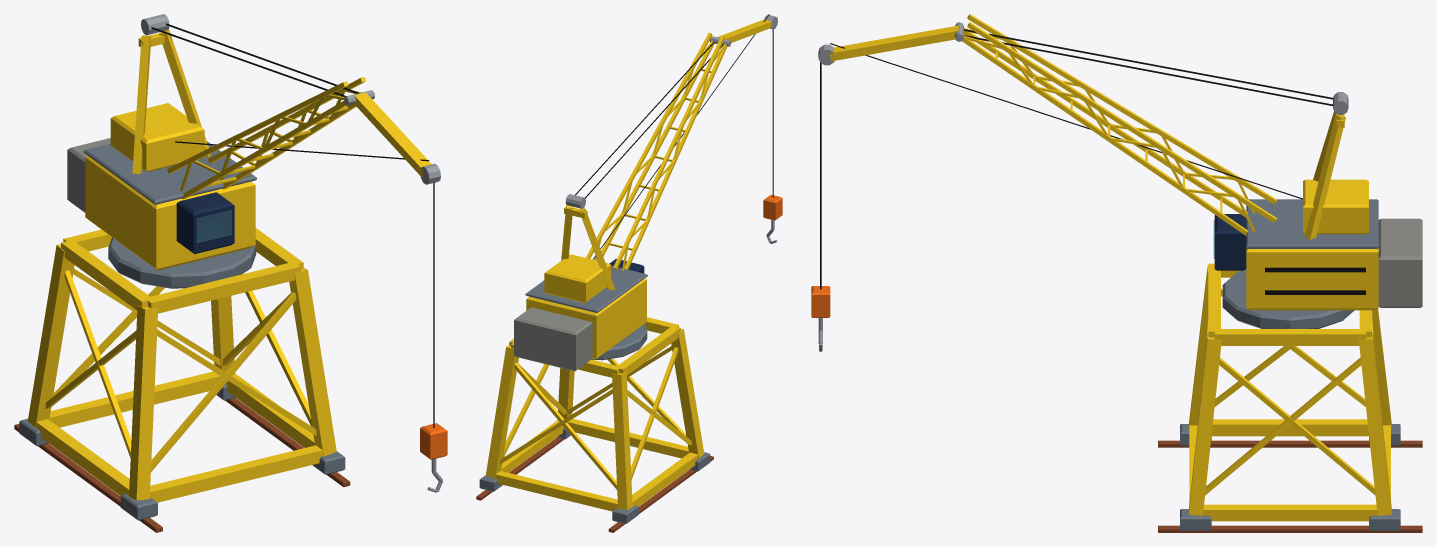
File: HARBOR_07.obj
The picture shows the model from 3 angles, left to right: view 1: azimuth 30°, elevation 25°; view 2: azimuth 150°, elevation 25°; view 3: azimuth 270°, elevation 25°; orthographic projection. The views are drawn at different scales.
Parts seen in each view (by area): view 1: HARBOR_07__legs, HARBOR_07__house, HARBOR_07__sill, HARBOR_07__leg_brace, HARBOR_07__portal_top, HARBOR_07__winch_house, HARBOR_07__boom_chord, HARBOR_07__slew_ring, HARBOR_07__cab, HARBOR_07__a_frame, HARBOR_07__rail, HARBOR_07__ropes (+6 smaller); view 2: HARBOR_07__legs, HARBOR_07__sill, HARBOR_07__house, HARBOR_07__boom_chord, HARBOR_07__leg_brace, HARBOR_07__counterweight, HARBOR_07__winch_house, HARBOR_07__portal_top, HARBOR_07__ropes, HARBOR_07__boom_web, HARBOR_07__a_frame, HARBOR_07__rail (+4 smaller); view 3: HARBOR_07__house, HARBOR_07__boom_chord, HARBOR_07__legs, HARBOR_07__sill, HARBOR_07__leg_brace, HARBOR_07__counterweight, HARBOR_07__portal_top, HARBOR_07__rail, HARBOR_07__winch_house, HARBOR_07__ropes, HARBOR_07__slew_ring, HARBOR_07__boom_web (+5 smaller).
Boxes of the visible parts, x1,y1,x2,y2 form: HARBOR_07__legs: (27,244,336,500); HARBOR_07__house: (83,141,256,270); HARBOR_07__sill: (36,371,329,502); HARBOR_07__leg_brace: (45,268,316,471); HARBOR_07__portal_top: (61,228,303,313); HARBOR_07__winch_house: (110,103,204,171); HARBOR_07__boom_chord: (167,77,365,199); HARBOR_07__slew_ring: (108,237,256,288); HARBOR_07__cab: (176,192,234,254); HARBOR_07__a_frame: (132,29,210,173); HARBOR_07__rail: (14,398,350,532); HARBOR_07__ropes: (151,23,434,427); HARBOR_07__legs: (485,328,704,509); HARBOR_07__sill: (495,418,698,511); HARBOR_07__house: (525,265,647,359); HARBOR_07__boom_chord: (585,32,727,269); HARBOR_07__leg_brace: (500,346,691,489); HARBOR_07__counterweight: (514,307,592,371); HARBOR_07__winch_house: (544,254,610,302); HARBOR_07__portal_top: (509,317,680,377); HARBOR_07__ropes: (575,14,773,259); HARBOR_07__boom_web: (594,41,725,271); HARBOR_07__a_frame: (561,205,615,290); HARBOR_07__rail: (476,437,713,532); HARBOR_07__house: (1246,199,1378,310); HARBOR_07__boom_chord: (962,14,1276,235); HARBOR_07__legs: (1188,265,1391,515); HARBOR_07__sill: (1189,419,1390,521); HARBOR_07__leg_brace: (1198,288,1382,495); HARBOR_07__counterweight: (1378,218,1422,307); HARBOR_07__portal_top: (1208,263,1372,345); HARBOR_07__rail: (1158,440,1422,532); HARBOR_07__winch_house: (1303,179,1368,234); HARBOR_07__ropes: (820,29,1333,289); HARBOR_07__slew_ring: (1222,269,1354,328); HARBOR_07__boom_web: (964,28,1254,231).
Size of the model in its own units: 7.1 by 16.46 by 19.4.
